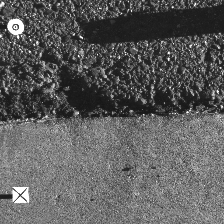circle: (7, 18, 24, 35)
crack: (1, 99, 223, 123)
square: (12, 187, 29, 204)
